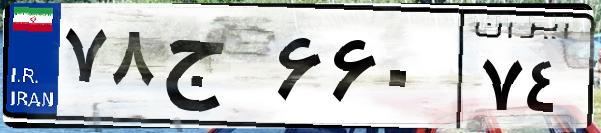0: (385, 28, 445, 110)
4: (525, 38, 570, 115)
6: (270, 28, 330, 110), (330, 28, 385, 110)
7: (57, 26, 110, 100), (475, 38, 525, 113)
8: (110, 28, 158, 98)
ج: (158, 20, 270, 120)
